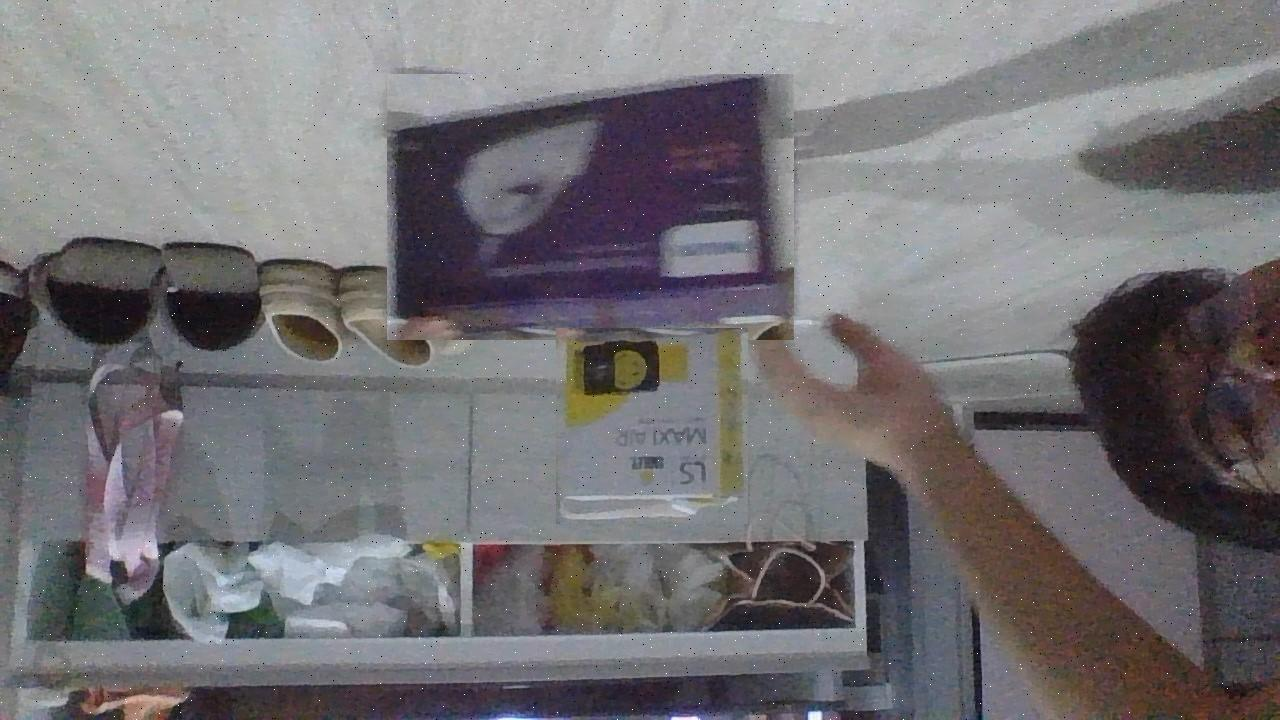Dryer: (556, 328, 748, 524)
IRON: (387, 74, 794, 340)
